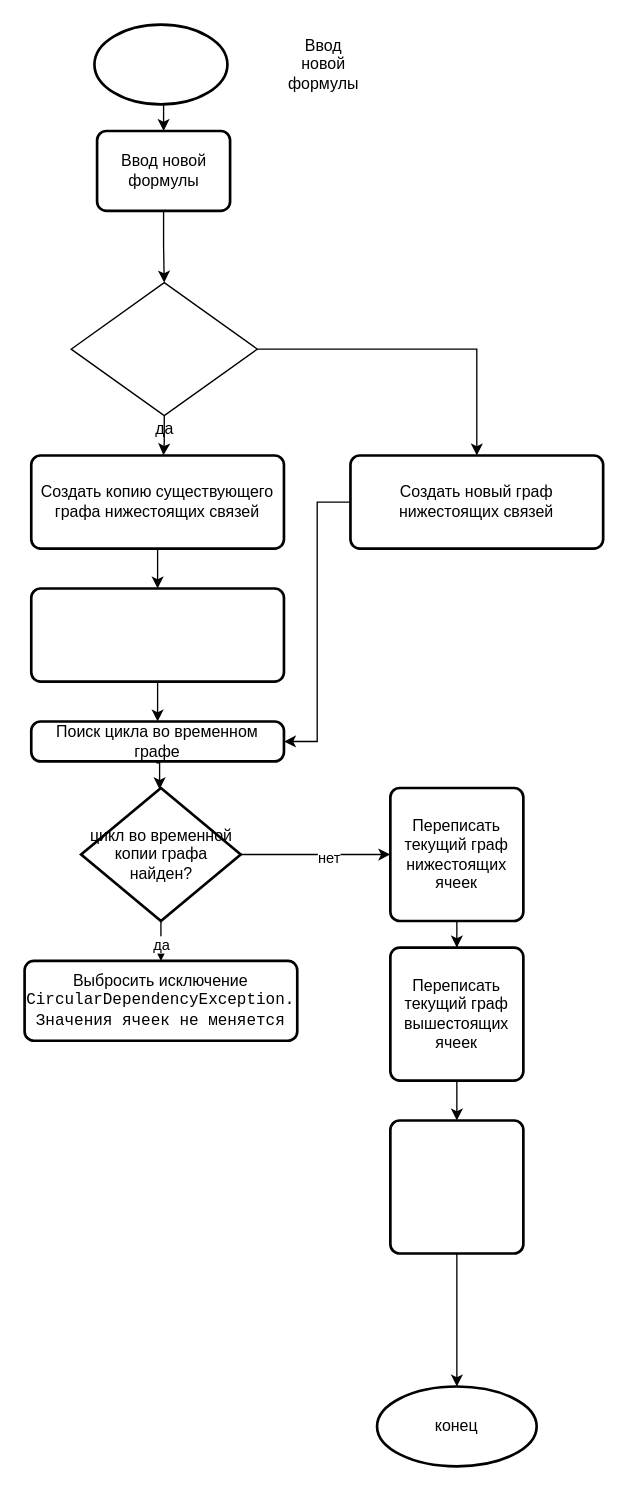
This 626x1490 diagram has some shape labels left out. The box of each missing label's shape, as (x1, y1, x2, y2) in pixels:
start: (92, 23, 228, 105)
В ячейке ранее была записана формула?: (70, 281, 257, 416)
Запустить инвалидацию кеша текущей и всех вышестоящих ячеек.: (388, 1119, 524, 1254)
очистить существующие связи, заменить на предполагаемые новые связи: (29, 587, 285, 682)
